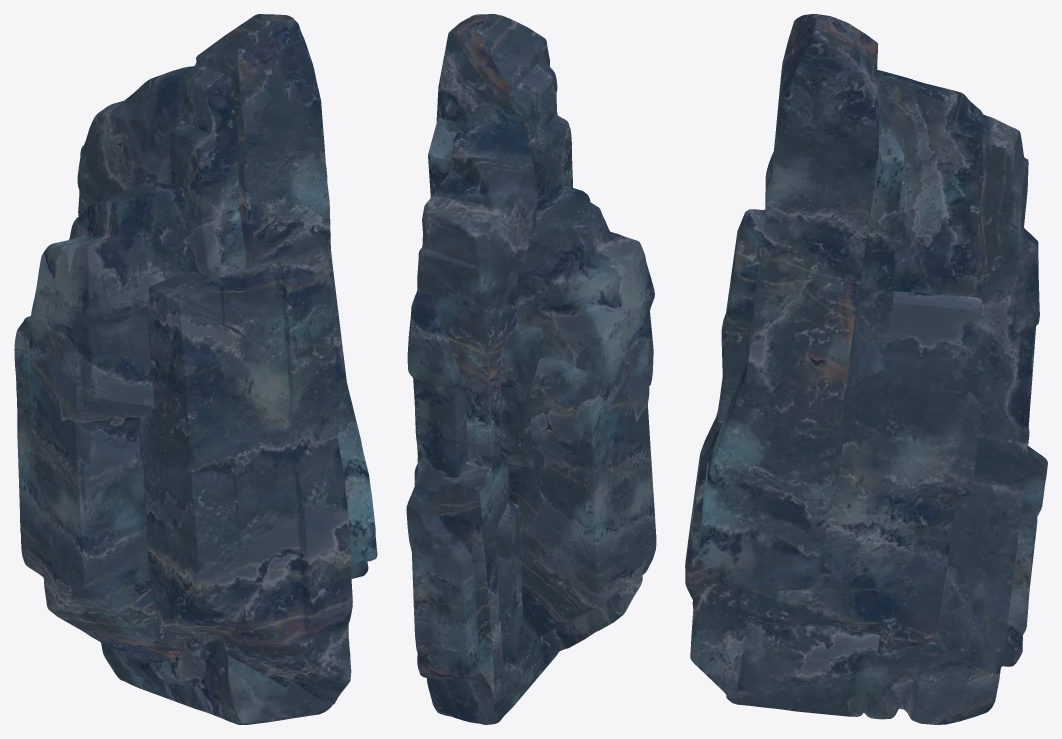
3 renders of one model, left to right at view 1: azimuth 30°, elevation 25°; view 2: azimuth 150°, elevation 25°; view 3: azimuth 270°, elevation 25°, orthographic. The views are drawn at different scales.
Visible parts, largest first — view 1: SM_Cave_Rock_Wall_03_LOD0; view 2: SM_Cave_Rock_Wall_03_LOD0; view 3: SM_Cave_Rock_Wall_03_LOD0.
Part boxes in pixels (x1=…): SM_Cave_Rock_Wall_03_LOD0: x1=14, y1=14, x2=377, y2=724; SM_Cave_Rock_Wall_03_LOD0: x1=406, y1=14, x2=656, y2=724; SM_Cave_Rock_Wall_03_LOD0: x1=685, y1=14, x2=1047, y2=724.
Bounding box in the file's own units: 3.53 × 9.97 × 4.61.
1 material, 1 textured.
